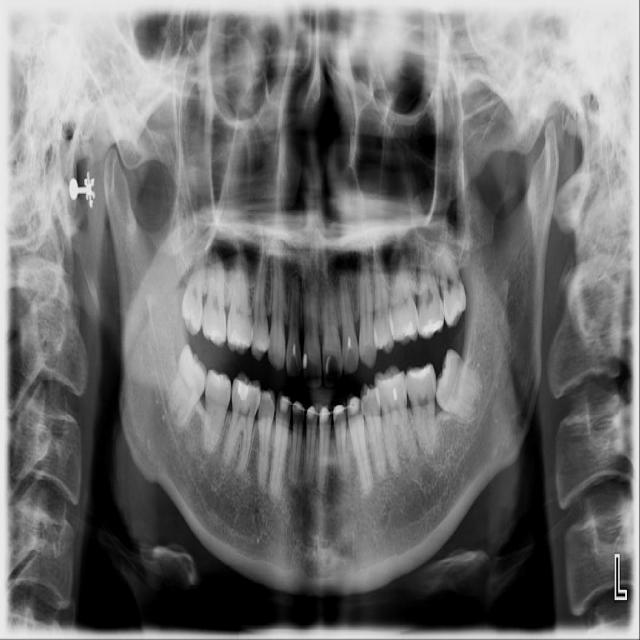Filling: (422, 315, 441, 338), (447, 302, 466, 325), (235, 379, 252, 403), (386, 376, 400, 402), (400, 318, 415, 340)
impacted tooth: (435, 350, 489, 422), (162, 343, 205, 432)
